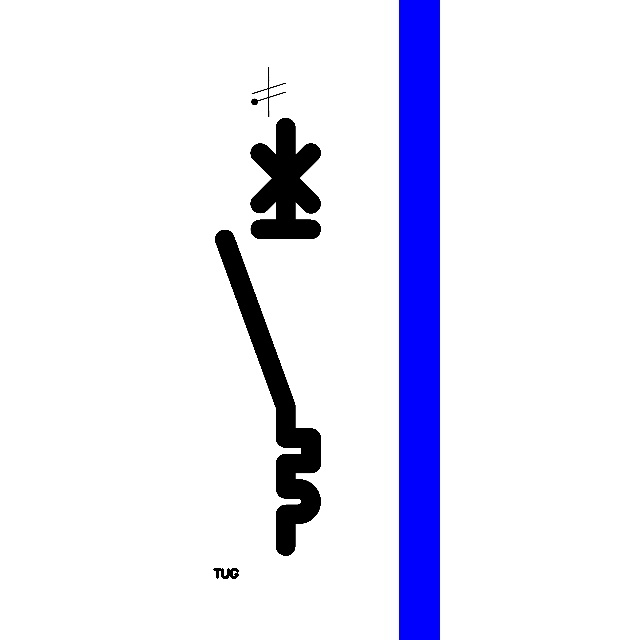interruptor_termomagnetico: (214, 116, 322, 556)
